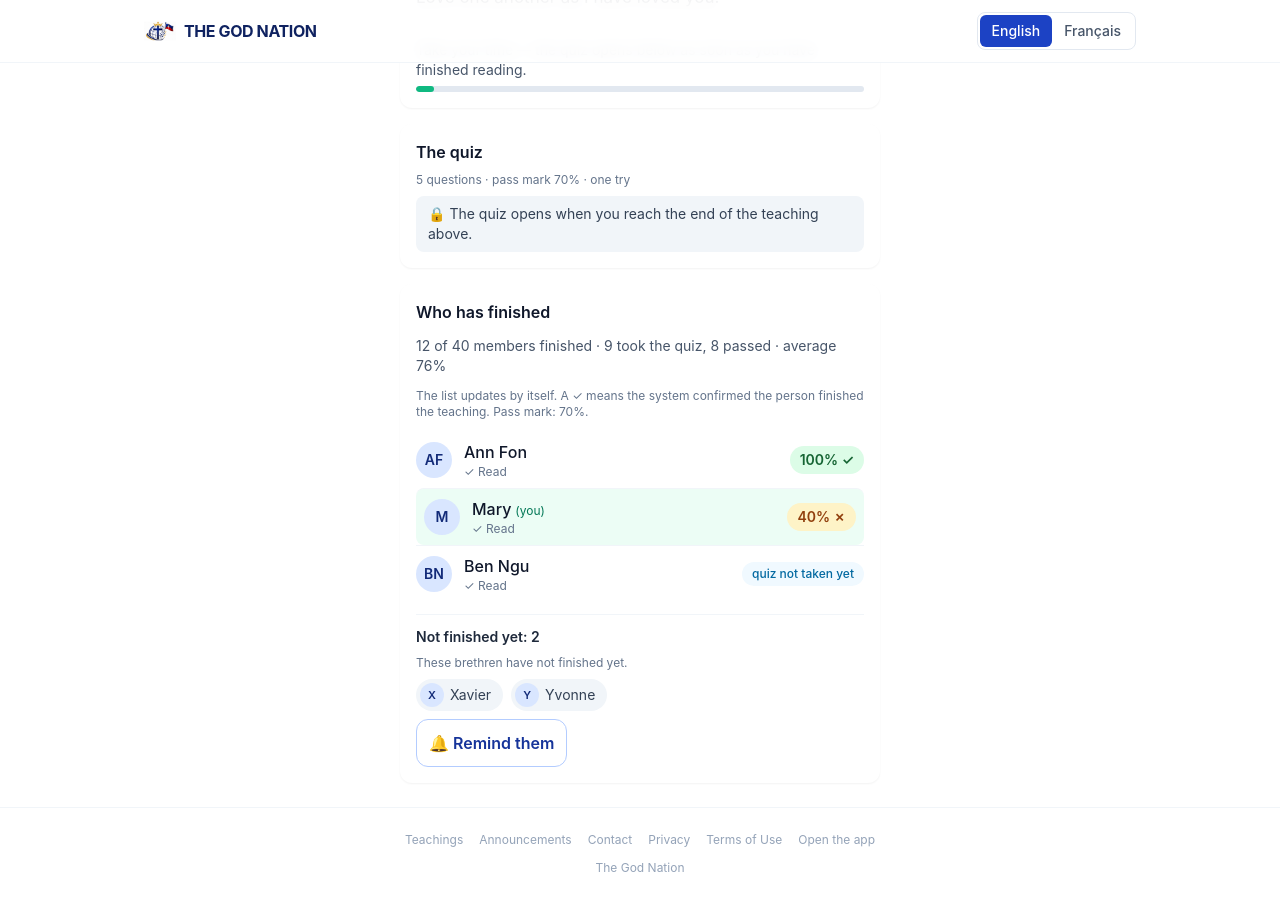
it: The teaching page › gives the central admin the same list and a reminder button
(page scrolled)
Check: the text "Xavier" is shown, box [450,685,491,705]
Click the button "🔔 Remind them": (492, 743) [416,719,567,767]
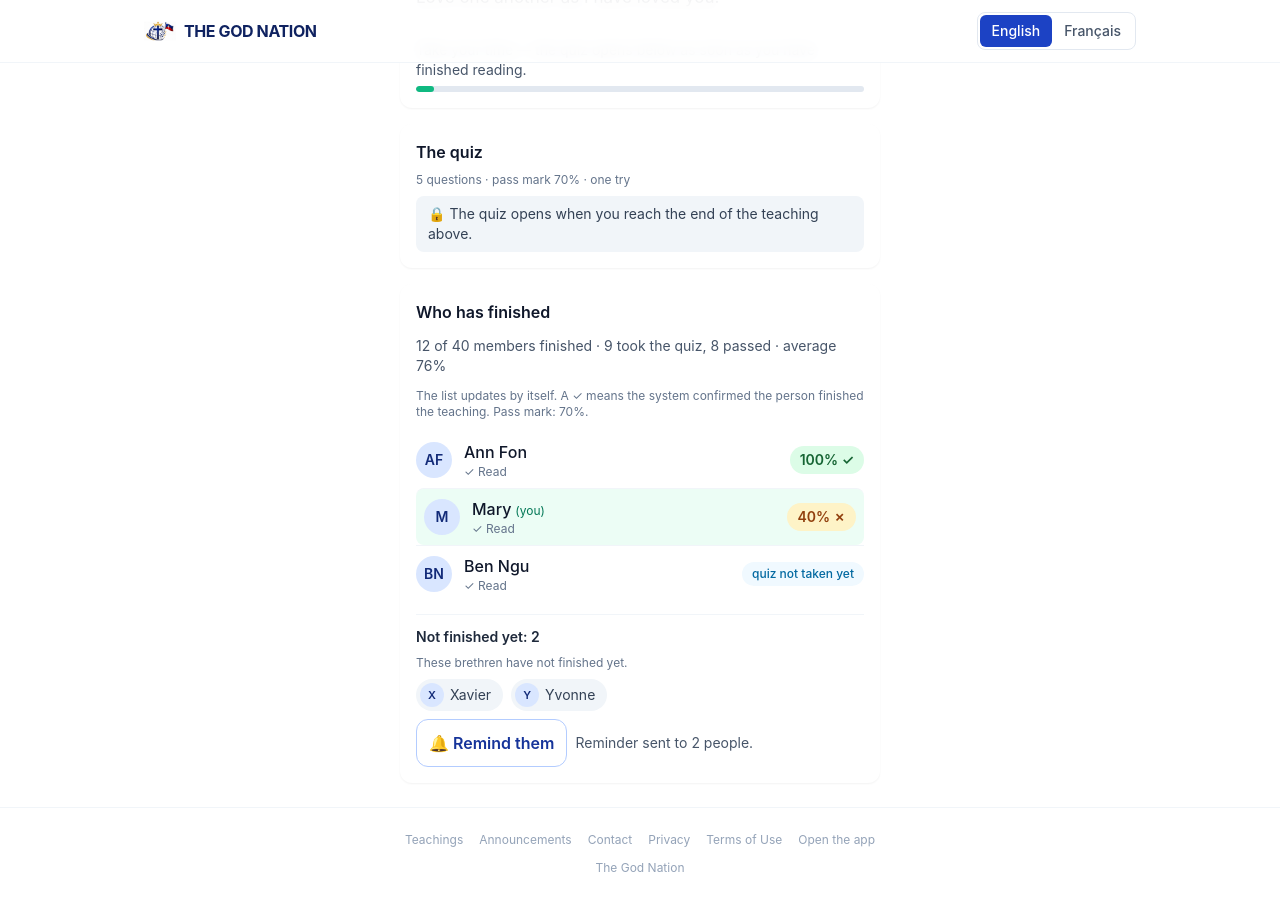
Check: the text "Reminder sent to 2 people." is shown, box [575,733,753,753]
